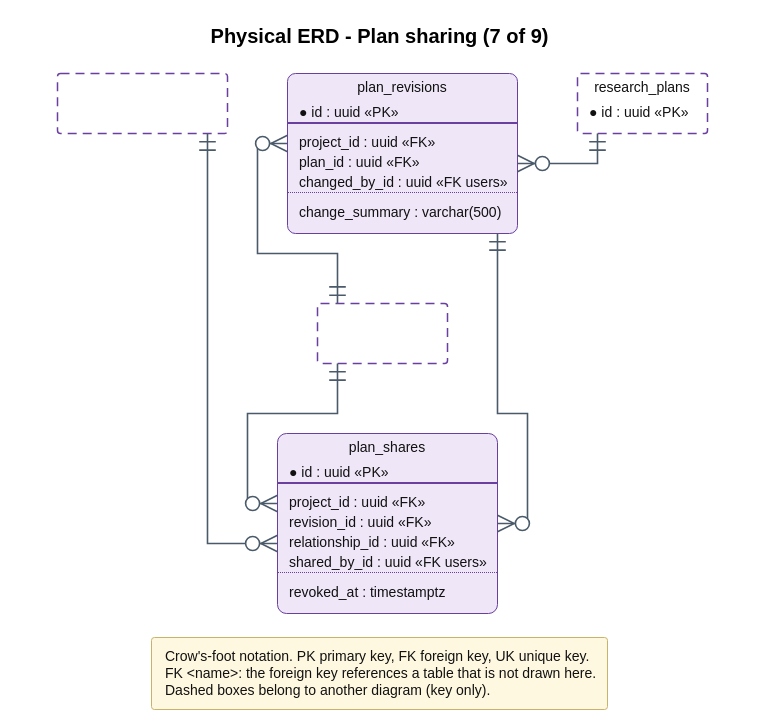
The diagram is 758 pixels wide and 727 high, and some of its shapes have lost their labels. The centre of each missing label's shape, as x and y in pixels:
mentor_relationships ● id : uuid «PK»: (x=142, y=103)
projects ● id : uuid «PK»: (x=382, y=333)
